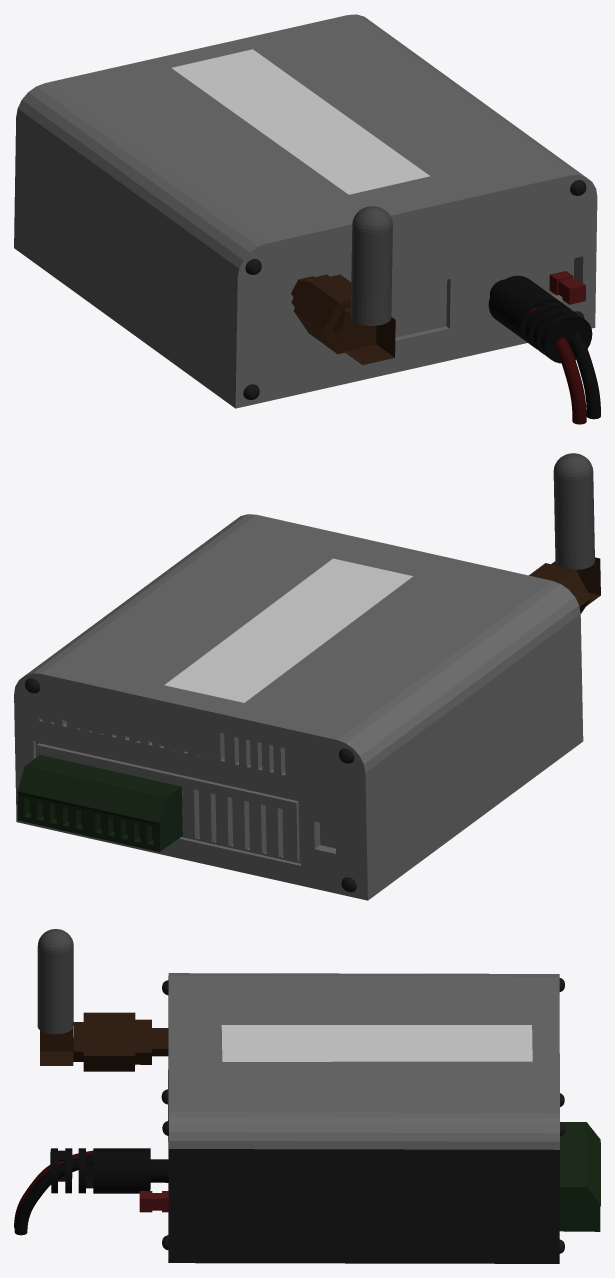
File: Iot wireless intelligent node.obj
3 renders of one model, top to bottom at view 1: azimuth 30°, elevation 25°; view 2: azimuth 150°, elevation 25°; view 3: azimuth 270°, elevation 25°, orthographic. The views are drawn at different scales.
Visible parts, largest first — view 1: Iot_wireless_intelligent_node.006; view 2: Iot_wireless_intelligent_node.006; view 3: Iot_wireless_intelligent_node.006.
Boxes of the visible parts, <box> form: Iot_wireless_intelligent_node.006: <box>14,14,600,424</box>; Iot_wireless_intelligent_node.006: <box>14,453,600,900</box>; Iot_wireless_intelligent_node.006: <box>14,929,600,1263</box>.
Bounding box in the file's own units: 0.7531 × 0.4849 × 1.19.
